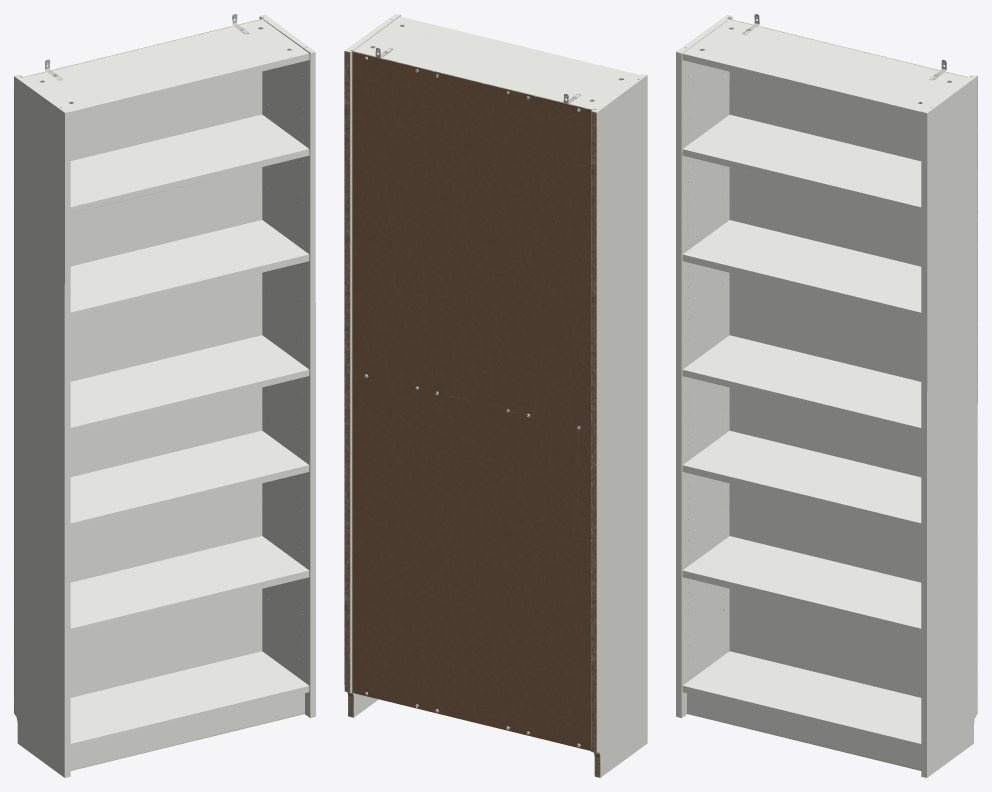
3 views of the same model, side by side, from view 1: azimuth 30°, elevation 25°; view 2: azimuth 150°, elevation 25°; view 3: azimuth 330°, elevation 25° (orthographic).
Visible parts, largest first — view 1: ASY_ART_20522046_S01_NV01; view 2: ASY_ART_20522046_S01_NV01; view 3: ASY_ART_20522046_S01_NV01.
Boxes of the visible parts, x1=… form: ASY_ART_20522046_S01_NV01: x1=14, y1=14, x2=315, y2=777; ASY_ART_20522046_S01_NV01: x1=344, y1=14, x2=647, y2=777; ASY_ART_20522046_S01_NV01: x1=676, y1=14, x2=977, y2=777.
Bounding box in the file's own units: 0.7981 × 2.05 × 0.2809.
1 material, 1 textured.
